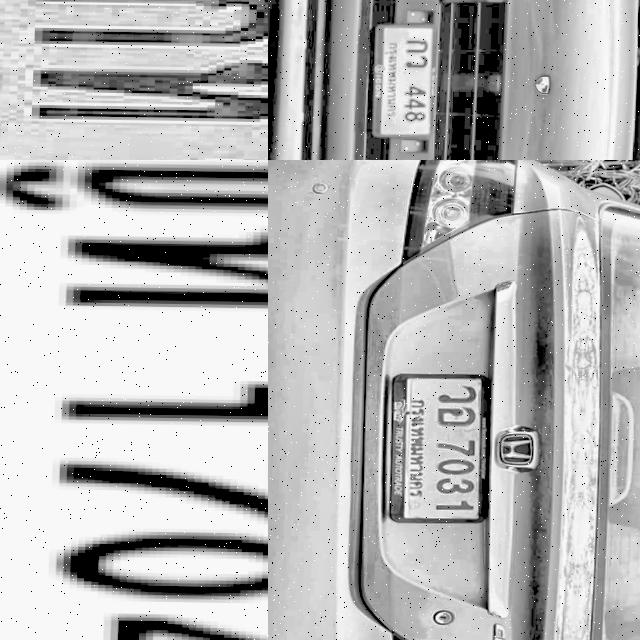license-plate: (0, 160, 268, 640), (0, 0, 268, 160), (387, 371, 495, 523), (374, 24, 437, 141)
